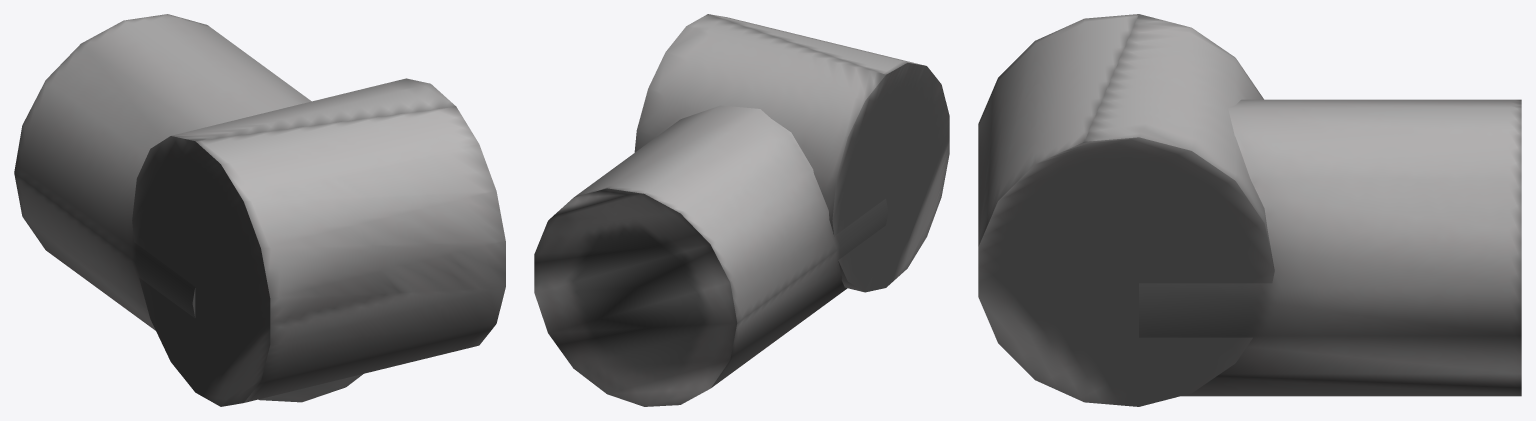
The model's file is r_uarm.dae.
3 views of the same model, side by side, from view 1: azimuth 30°, elevation 25°; view 2: azimuth 150°, elevation 25°; view 3: azimuth 270°, elevation 25° (orthographic). The views are drawn at different scales.
Visible parts, largest first — view 1: p24275; view 2: p24275; view 3: p24275.
Part boxes in pixels (box(x1,y1,x2,y2)): p24275: box(14, 14, 505, 406); p24275: box(534, 14, 949, 406); p24275: box(978, 14, 1521, 406).
Bounding box in the file's own units: 0.0901 × 0.1652 × 0.1034.
